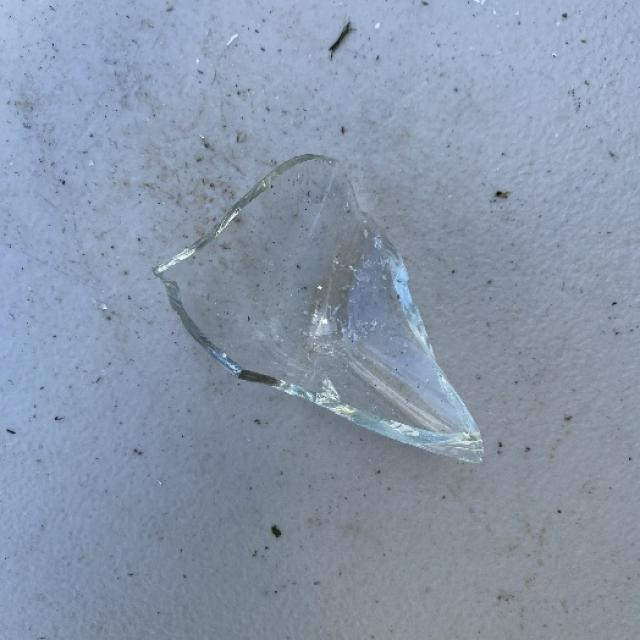inorganic: (153, 141, 494, 477)
